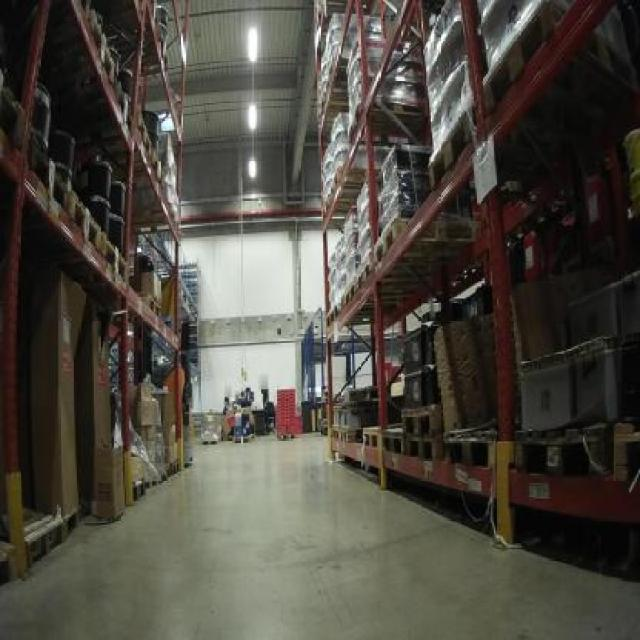pallet: (59, 177, 112, 265), (364, 203, 413, 273), (92, 225, 132, 288), (396, 406, 441, 438), (405, 433, 443, 461), (381, 428, 405, 456), (332, 426, 361, 442)
